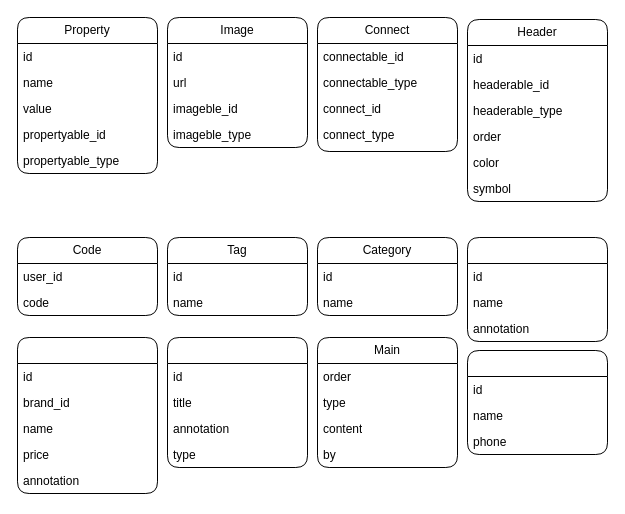
The diagram is 625 pixels wide and 514 high, and some of its shapes have lost their labels. Each missing label, with the box of its shape:
Banner: (166, 336, 308, 468)
Brand: (466, 236, 608, 342)
Product: (16, 336, 158, 494)
User: (466, 350, 608, 454)
